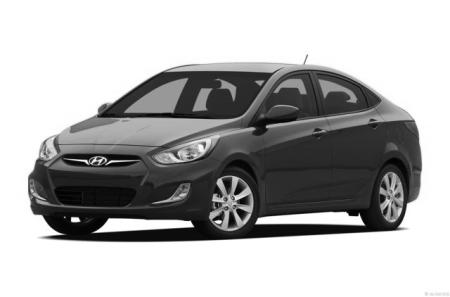car: (23, 52, 426, 244)
